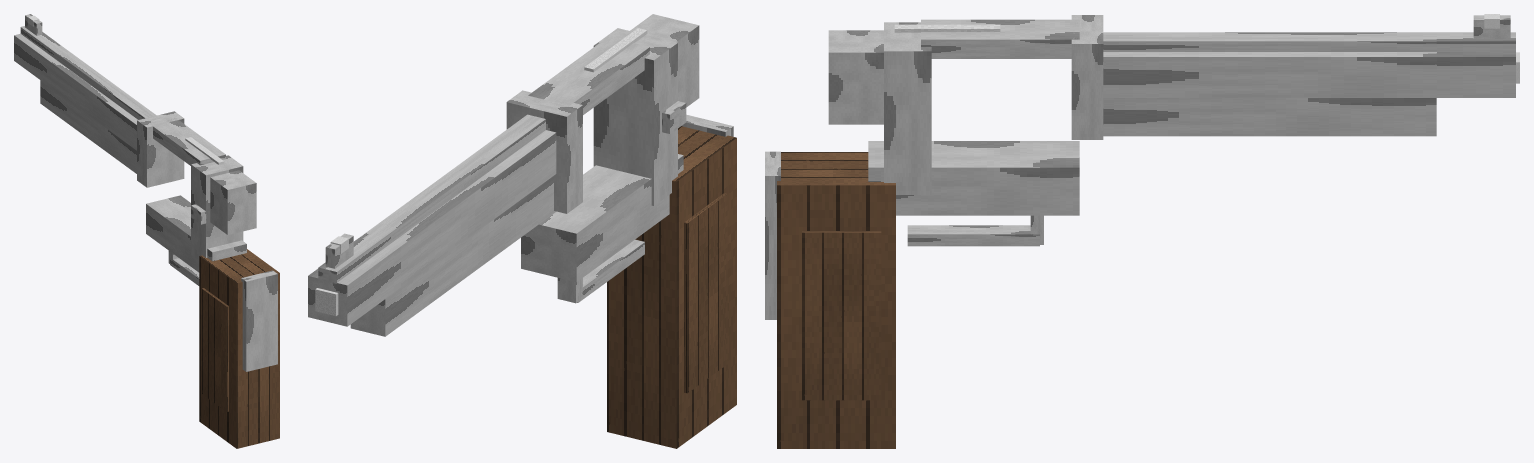
The model's file is revolver4.obj.
The picture shows the model from 3 angles, left to right: view 1: azimuth 30°, elevation 25°; view 2: azimuth 150°, elevation 25°; view 3: azimuth 270°, elevation 25°; orthographic projection. The views are drawn at different scales.
Parts seen in each view (by area): view 1: part0, part10, part3, part4, part2, part6, part5, part9, part12, part11, part7, part16 (+1 smaller); view 2: part0, part10, part4, part5, part2, part12, part11, part9, part7, part6, part16, part8 (+5 smaller); view 3: part0, part10, part1, part12, part4, part11, part5, part7, part6, part9, part16, part3 (+1 smaller).
Part boxes in pixels (x1,y1,x2,y2): part0: (199, 249, 279, 448); part10: (14, 33, 137, 150); part3: (241, 270, 277, 371); part4: (146, 195, 246, 272); part2: (202, 288, 228, 411); part6: (210, 170, 256, 234); part5: (191, 155, 243, 260); part9: (137, 111, 184, 187); part12: (40, 80, 136, 173); part11: (20, 26, 156, 119); part7: (150, 118, 225, 165); part16: (170, 258, 199, 285); part0: (607, 126, 736, 448); part10: (308, 130, 556, 326); part4: (521, 154, 683, 282); part5: (593, 28, 677, 205); part2: (684, 193, 727, 393); part12: (350, 176, 556, 336); part11: (318, 114, 545, 283); part9: (506, 90, 582, 213); part7: (528, 37, 649, 114); part6: (630, 14, 699, 107); part16: (577, 239, 644, 302); part8: (584, 28, 647, 72); part0: (777, 152, 895, 448); part10: (1103, 52, 1515, 97); part1: (802, 231, 881, 400); part12: (1103, 98, 1436, 136); part4: (868, 141, 1079, 215); part11: (1103, 32, 1515, 51); part5: (884, 22, 931, 194); part7: (921, 19, 1079, 58); part6: (828, 30, 883, 124); part9: (1071, 15, 1103, 139); part16: (907, 225, 1039, 246); part3: (765, 151, 780, 319).
Bounding box in the file's own units: 0.033 × 0.1735 × 0.2855.
Materials: 6 (6 with a texture image).
